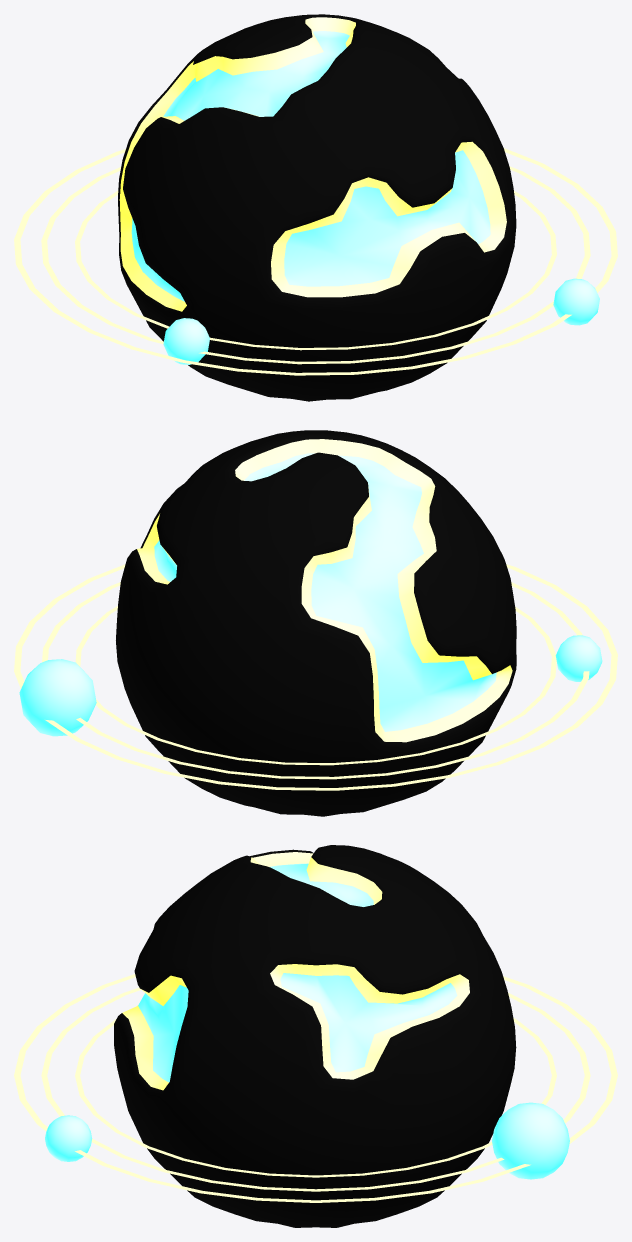
File: mesh_Galaxy_Trap_Bumper.fbx
3 renders of one model, top to bottom at view 1: azimuth 30°, elevation 25°; view 2: azimuth 150°, elevation 25°; view 3: azimuth 270°, elevation 25°, orthographic.
Visible parts, largest first — view 1: mesh_Galaxy_Trap_Bumper; view 2: mesh_Galaxy_Trap_Bumper; view 3: mesh_Galaxy_Trap_Bumper.
Part boxes in pixels (bbox=[...]): mesh_Galaxy_Trap_Bumper: bbox=[14, 14, 617, 401]; mesh_Galaxy_Trap_Bumper: bbox=[14, 430, 617, 816]; mesh_Galaxy_Trap_Bumper: bbox=[14, 845, 617, 1227].
Bounding box in the file's own units: 2.92 × 1.83 × 2.92.
